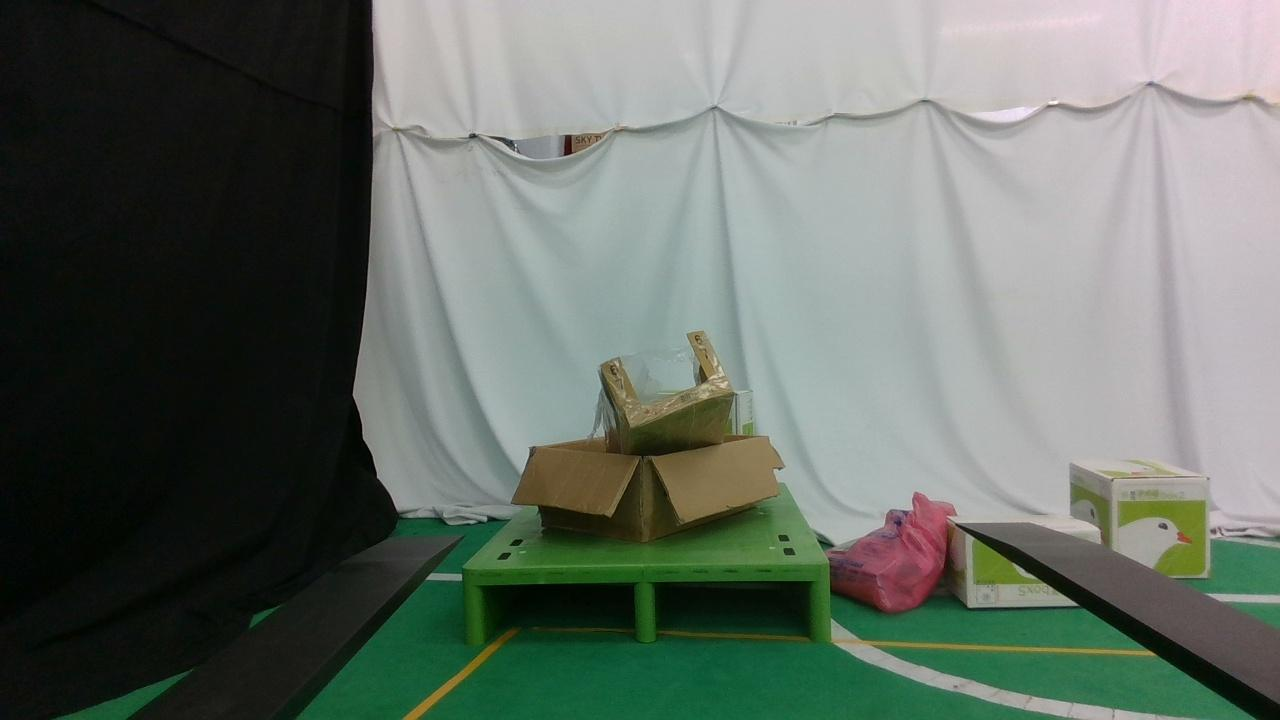Pallet: (462, 564, 832, 644)
